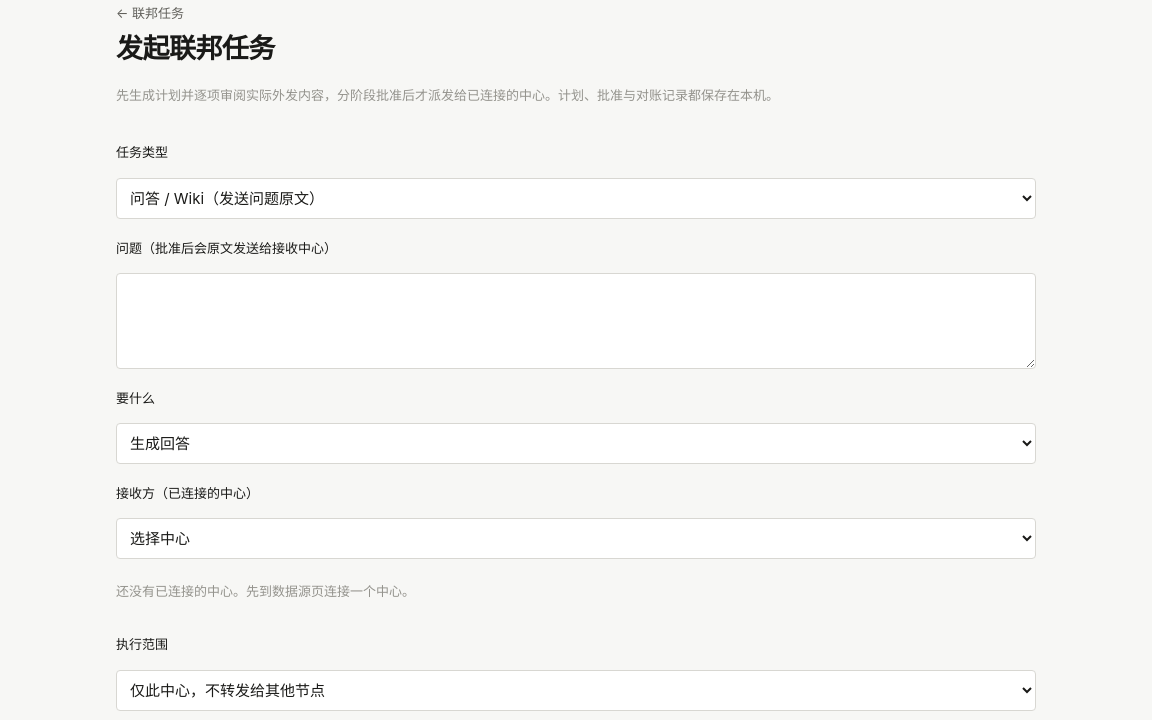
Test: 准备页草稿的 IPC 边界 › 宿主仍拒绝克隆时显示草稿序列化失败，而不是未知枚举值（{}）
Type "一个问题" into the text box with id "task-query" at (576, 321), box [116, 273, 1036, 369]
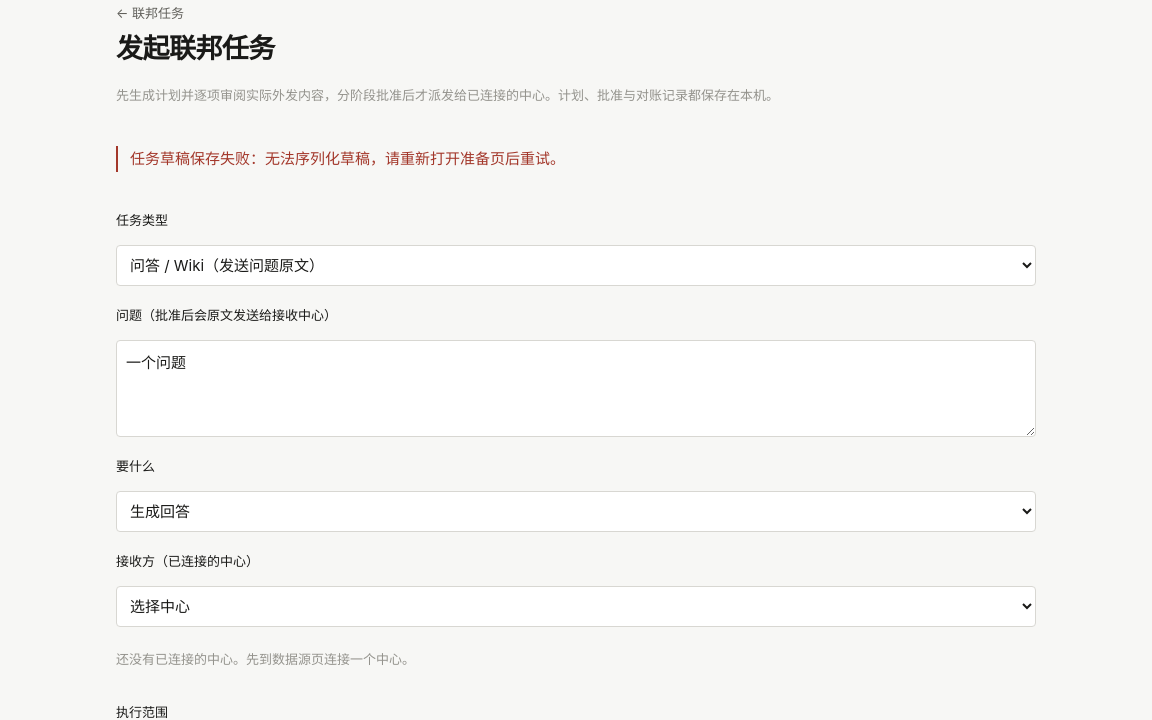
expect the message "任务草稿保存失败：无法序列化草稿，请重新打开准备页后重试。" is shown: met, box [116, 146, 1036, 172]
